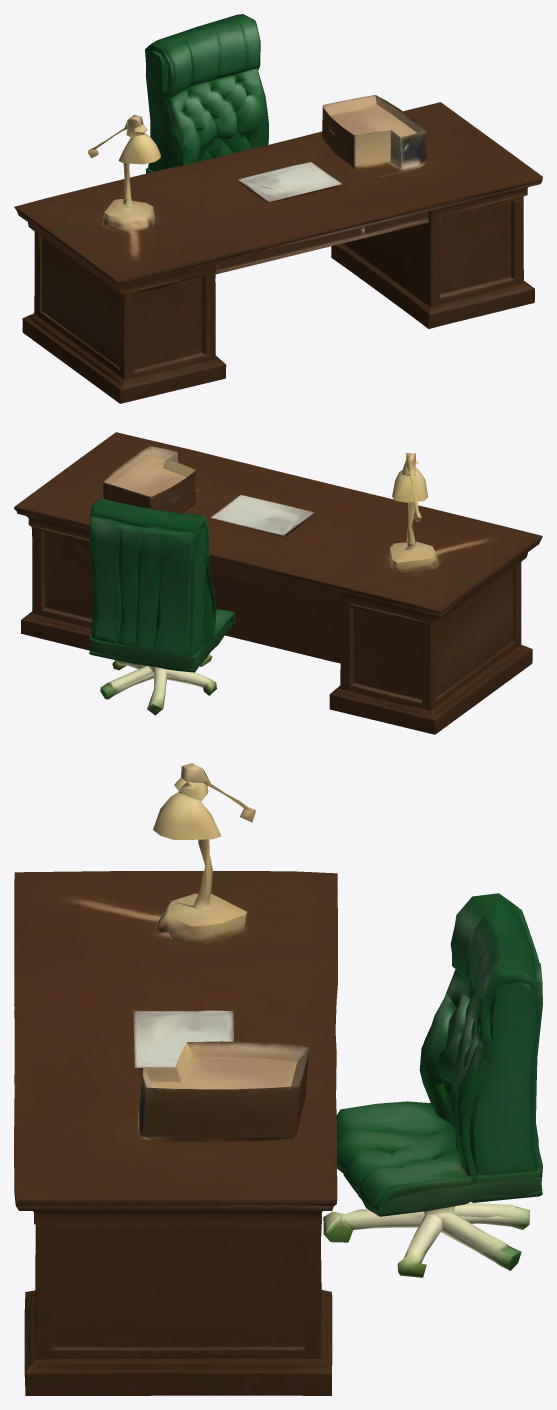
The model's file is execDesk.glb.
3 views of the same model, one above another, from view 1: azimuth 30°, elevation 25°; view 2: azimuth 150°, elevation 25°; view 3: azimuth 270°, elevation 25° (orthographic). The views are drawn at different scales.
Parts seen in each view (by area): view 1: model; view 2: model; view 3: model.
Part boxes in pixels (<box>): model: <box>14,14,542,403</box>; model: <box>14,432,542,734</box>; model: <box>14,763,542,1395</box>.
Size of the model in its own units: 1.9 by 0.9867 by 1.29.
Materials: 1 (1 with a texture image).
